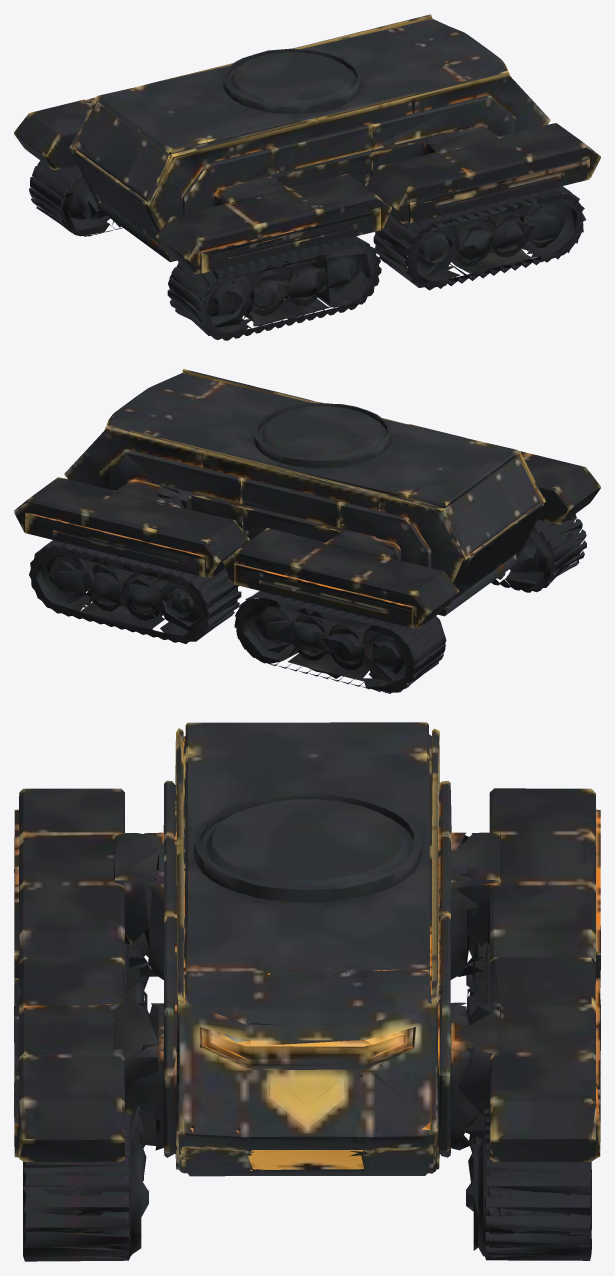
Rendered from chassis-titan-2-light.glb.
3 renders of one model, top to bottom at view 1: azimuth 30°, elevation 25°; view 2: azimuth 150°, elevation 25°; view 3: azimuth 270°, elevation 25°, orthographic. The views are drawn at different scales.
Visible parts, largest first — view 1: chassis-titan-2-light; view 2: chassis-titan-2-light; view 3: chassis-titan-2-light.
Boxes of the visible parts, x1,y1,x2,y2 form: chassis-titan-2-light: (14,14,600,340); chassis-titan-2-light: (14,369,600,693); chassis-titan-2-light: (14,722,600,1261).
Bounding box in the file's own units: 3.1 × 1.18 × 2.28.
1 material, 1 textured.
